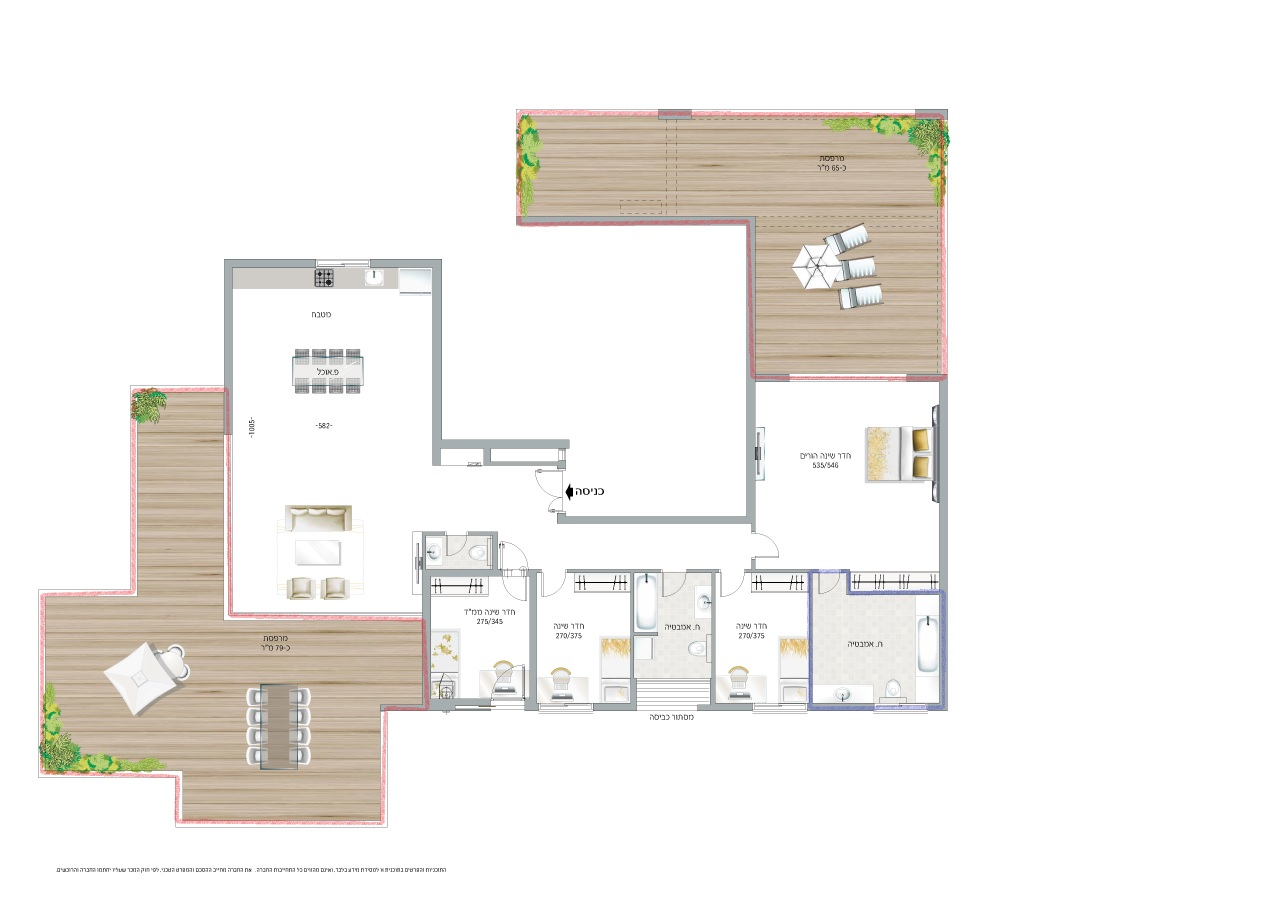balcony: (518, 111, 945, 379), (35, 619, 389, 826), (518, 112, 942, 225), (131, 390, 230, 628)
no: (434, 226, 759, 579), (230, 264, 442, 602), (427, 576, 535, 712), (715, 564, 806, 717), (631, 567, 721, 714), (539, 574, 635, 708)
